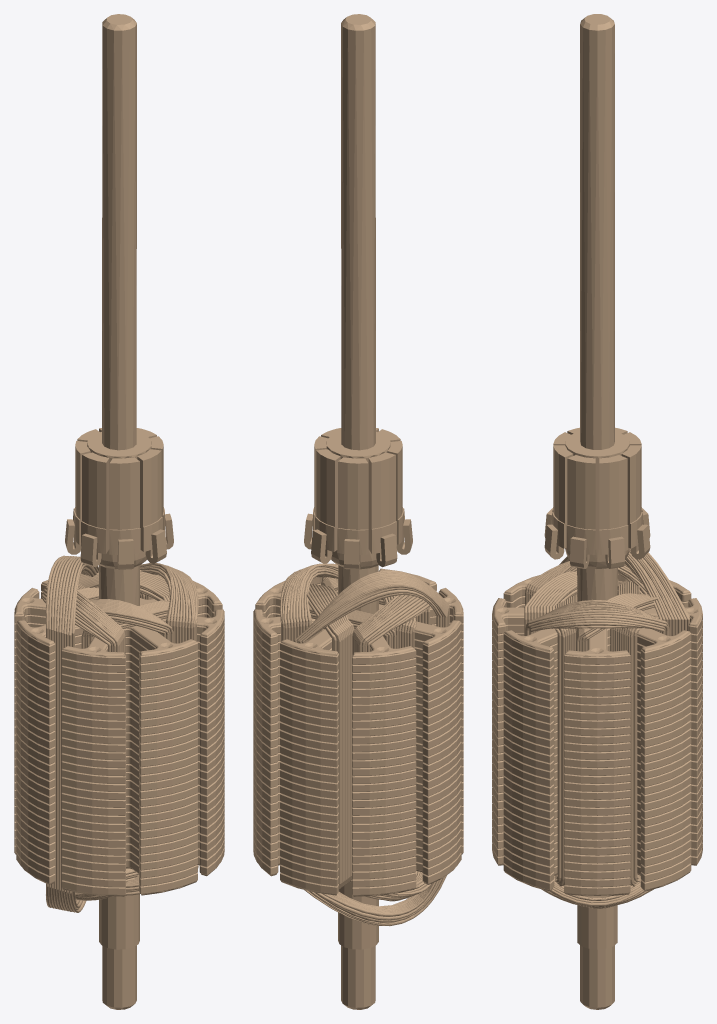
Rendered from Anker_Kurz.glb.
3 views of the same model, side by side, from view 1: azimuth 30°, elevation 25°; view 2: azimuth 150°, elevation 25°; view 3: azimuth 270°, elevation 25° (orthographic).
Parts seen in each view (by area): view 1: Anker_Kurz; view 2: Anker_Kurz; view 3: Anker_Kurz.
Part boxes in pixels (left/top/right/bottom): Anker_Kurz: left=14, top=14, right=224, bottom=1009; Anker_Kurz: left=253, top=14, right=463, bottom=1009; Anker_Kurz: left=492, top=14, right=702, bottom=1009.
Bounding box in the file's own units: 0.024 × 0.124 × 0.0241.
